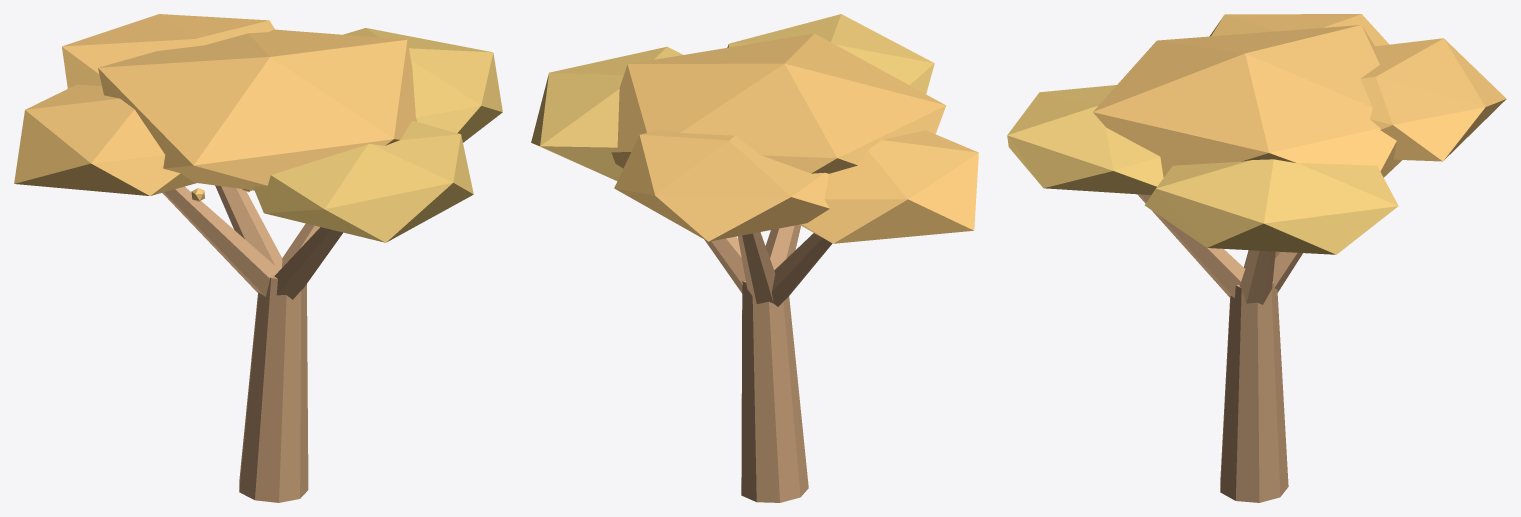
The model's file is Tree_Sunbark.fbx.
The picture shows the model from 3 angles, left to right: view 1: azimuth 30°, elevation 25°; view 2: azimuth 150°, elevation 25°; view 3: azimuth 270°, elevation 25°; orthographic projection. The views are drawn at different scales.
Visible parts, largest first — view 1: Tree_Sunbark_Mesh; view 2: Tree_Sunbark_Mesh; view 3: Tree_Sunbark_Mesh.
Part boxes in pixels (x1,y1,x2,y2): Tree_Sunbark_Mesh: [14, 14, 502, 502]; Tree_Sunbark_Mesh: [531, 14, 978, 502]; Tree_Sunbark_Mesh: [1007, 14, 1506, 502].
Bounding box in the file's own units: 8.88 × 8.12 × 8.51.
